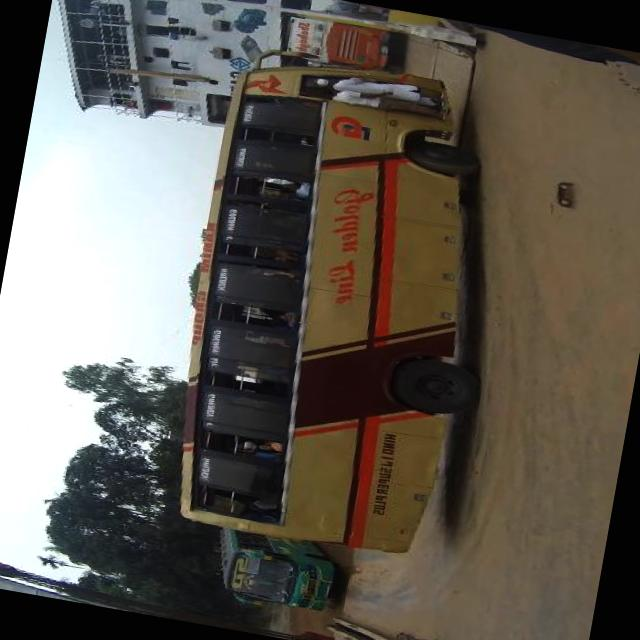bus: (156, 44, 532, 561), (205, 526, 337, 616)
